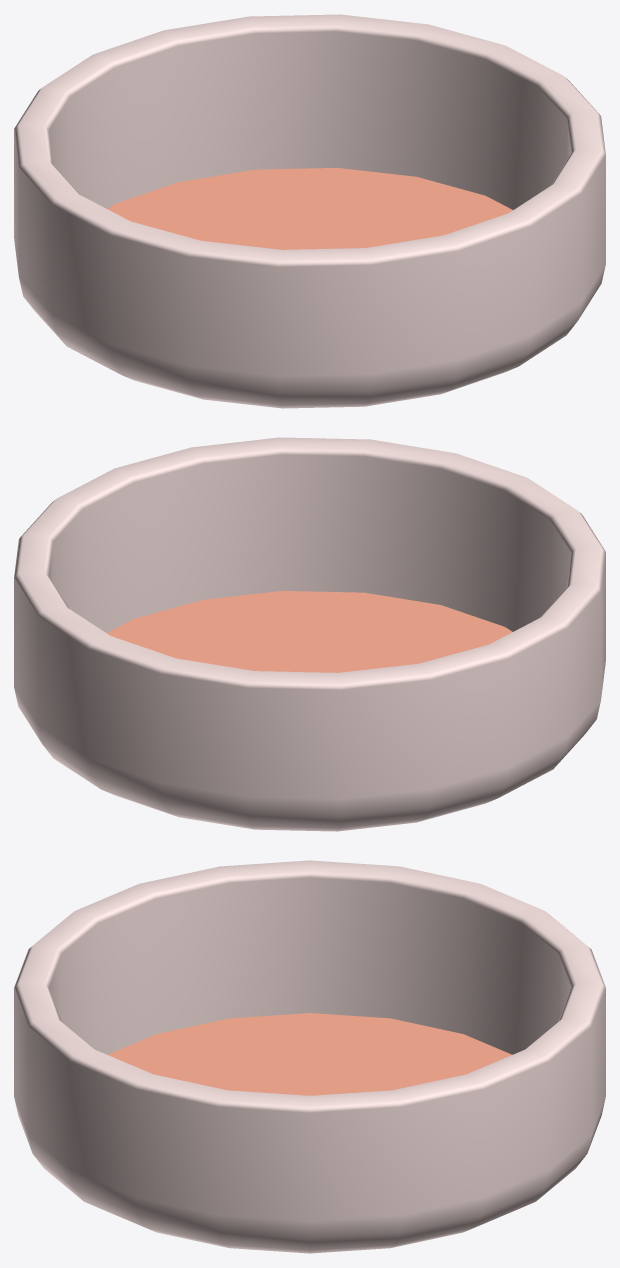
Rendered from Store_20_Plate_2.glb.
3 views of the same model, one above another, from view 1: azimuth 30°, elevation 25°; view 2: azimuth 150°, elevation 25°; view 3: azimuth 270°, elevation 25° (orthographic).
Visible parts, largest first — view 1: Store_20_Plate_2; view 2: Store_20_Plate_2; view 3: Store_20_Plate_2.
Part boxes in pixels (x1,y1,x2,y2): Store_20_Plate_2: (14, 14, 605, 408); Store_20_Plate_2: (14, 437, 605, 831); Store_20_Plate_2: (14, 860, 605, 1253).
Bounding box in the file's own units: 0.2493 × 0.0762 × 0.2493.
Materials: 1 (1 with a texture image).
